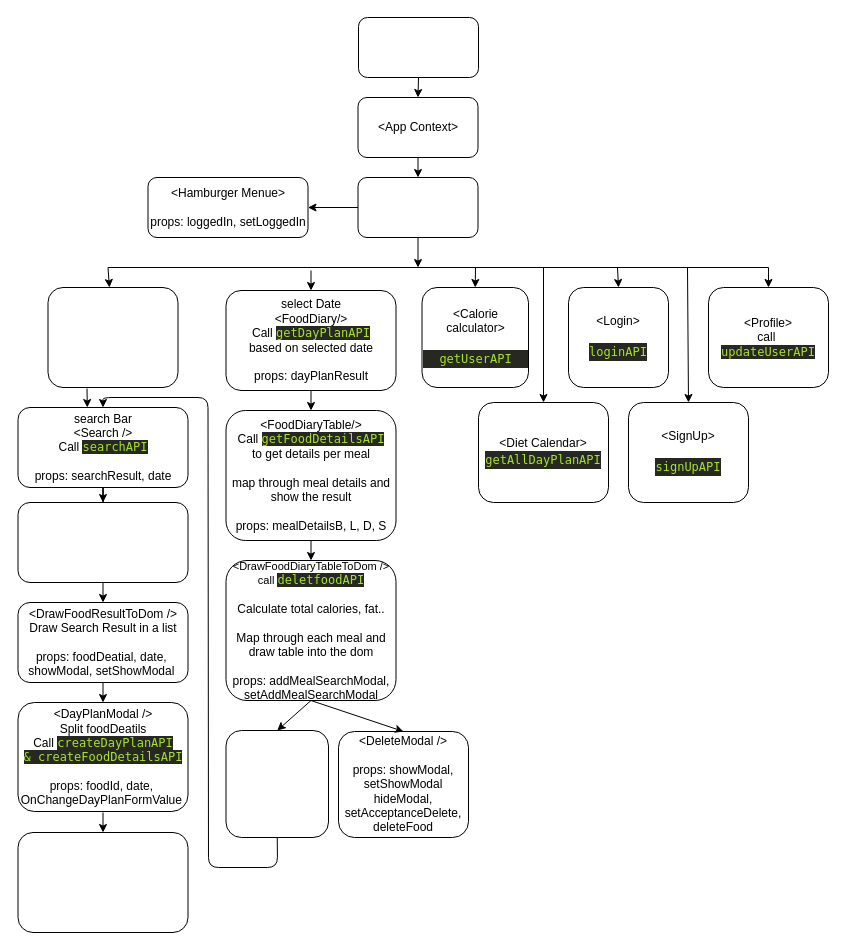
This 846x950 diagram has some shape labels left out. The shapes that lost their labels are listed below. From the top down, each one's centre as x and y in pixels, then its label:
(418,47): <App>
(417,207): <Nav>
(112,337): Home
(102,542): <SearchResult /> Map through Search Result props: foodDeatial, foodId, date
(276,784): <SearchModal /> props: showModal, hideModal, getDayPlanAPI
(102,882): <DayPlanForm /> Call OnChangeDayPlanFormValue select date, meal and servingSize
